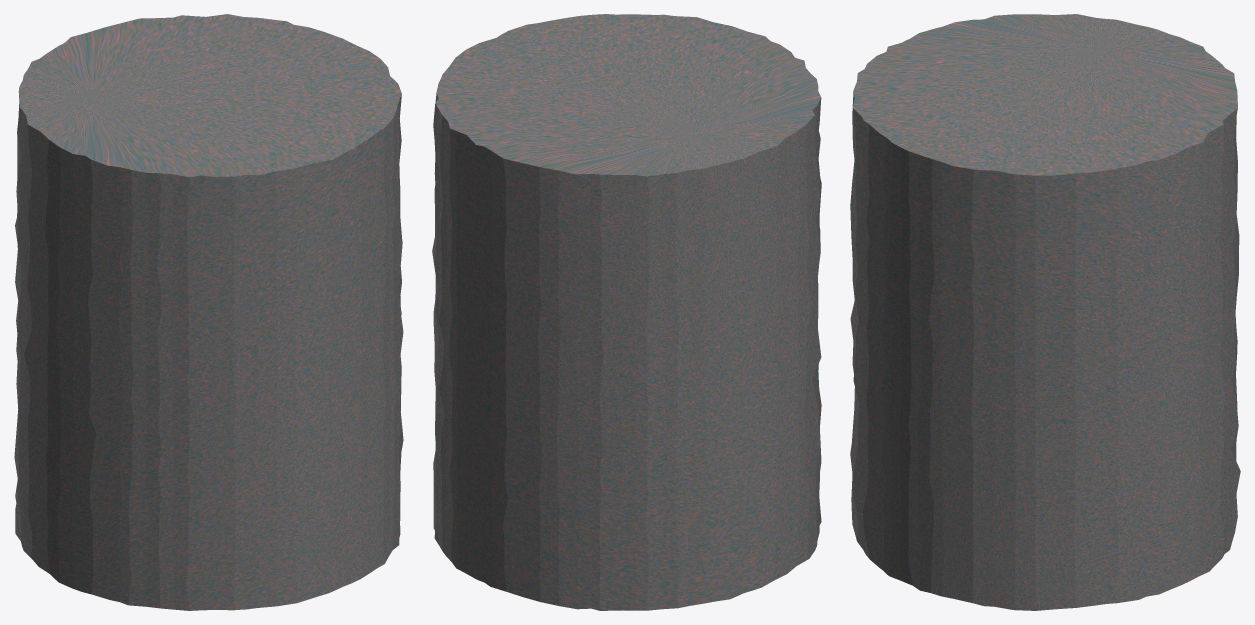
File: barrel_35.dae
The picture shows the model from 3 angles, left to right: view 1: azimuth 30°, elevation 25°; view 2: azimuth 150°, elevation 25°; view 3: azimuth 270°, elevation 25°; orthographic projection.
Visible parts, largest first — view 1: Cylinder; view 2: Cylinder; view 3: Cylinder.
Part boxes in pixels (x1,y1,x2,y2): Cylinder: (14,14,403,610); Cylinder: (432,14,821,610); Cylinder: (850,14,1240,610).
Size of the model in its own units: 0.8175 by 0.8155 by 1.
1 material, 1 textured.
